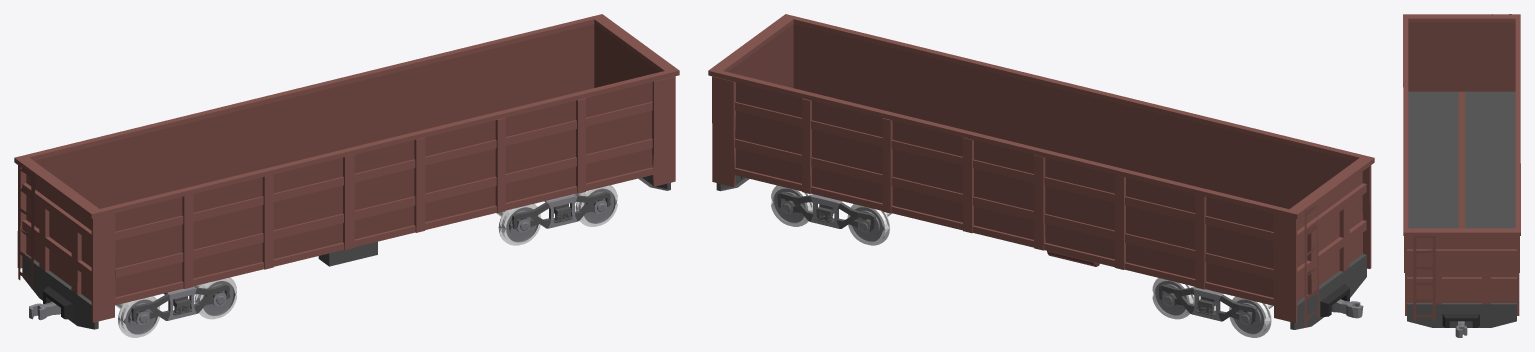
The model's file is Train1_LOD.fbx.
3 renders of one model, left to right at view 1: azimuth 30°, elevation 25°; view 2: azimuth 150°, elevation 25°; view 3: azimuth 270°, elevation 25°, orthographic. The views are drawn at different scales.
Parts seen in each view (by area): view 1: Train1_LOD0; view 2: Train1_LOD0; view 3: Train1_LOD0.
Part boxes in pixels (x1,y1,x2,y2): Train1_LOD0: (14, 14, 679, 337); Train1_LOD0: (708, 14, 1374, 337); Train1_LOD0: (1403, 14, 1520, 337).
Size of what is drawn, in the model's own units: 2312 by 526 by 487.
